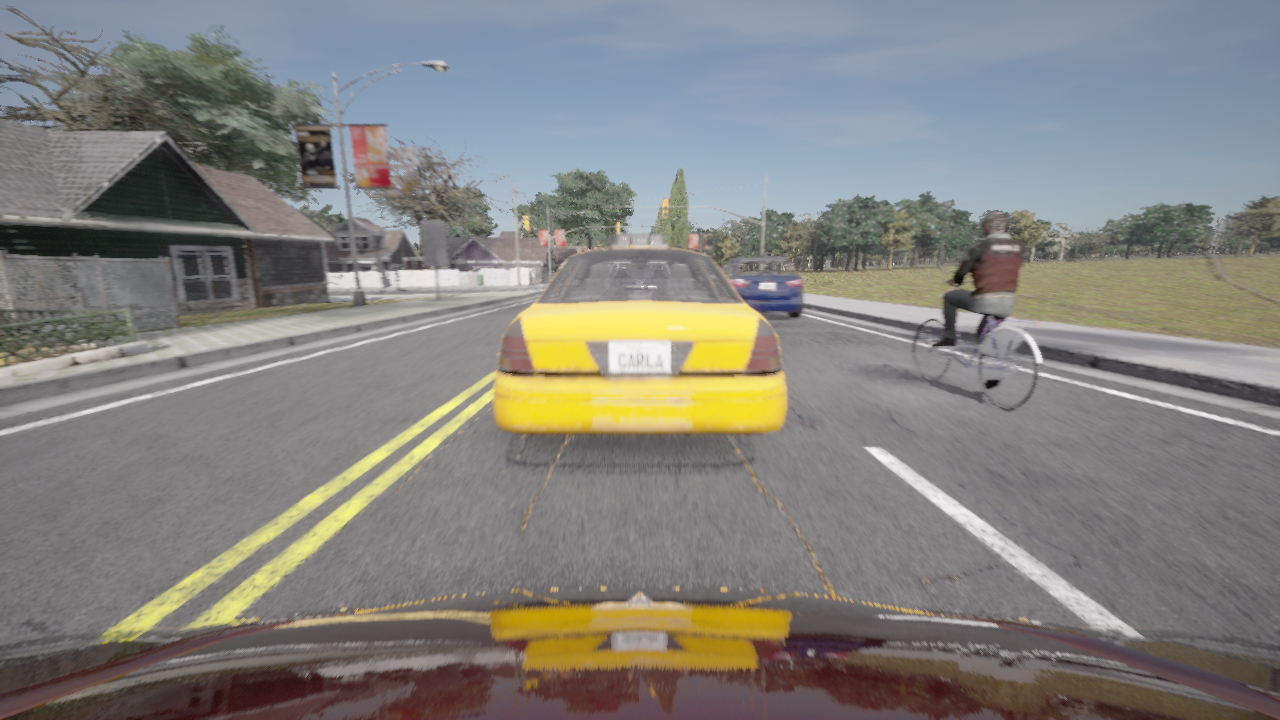cyclist: (0, 588, 1279, 719), (494, 234, 785, 434), (914, 280, 1042, 409), (721, 257, 802, 318)
pedestrian: (393, 269, 400, 292)
